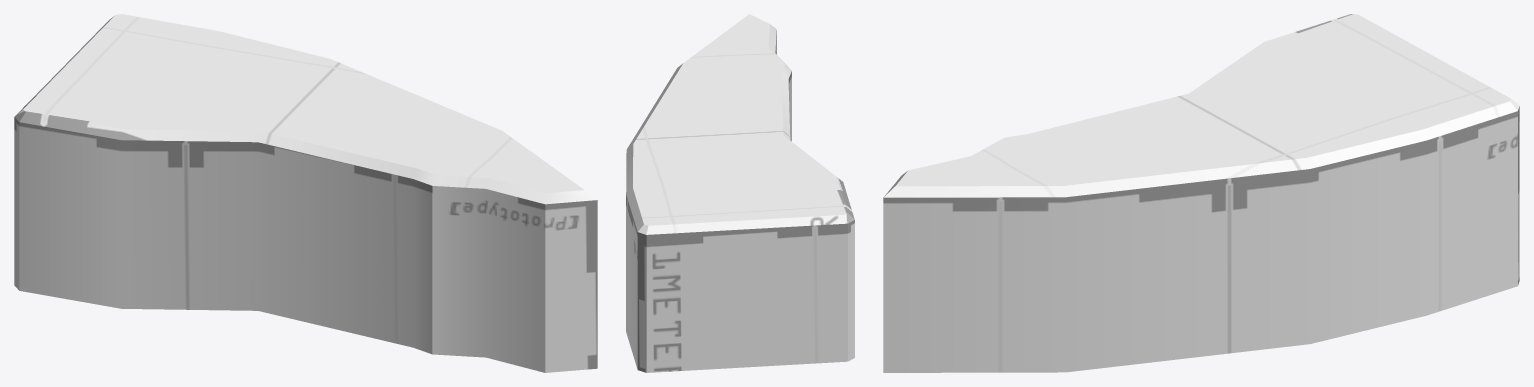
File: Platform_CaveOasis_Cube_2_.fbx
The picture shows the model from 3 angles, left to right: view 1: azimuth 30°, elevation 25°; view 2: azimuth 150°, elevation 25°; view 3: azimuth 270°, elevation 25°; orthographic projection. The views are drawn at different scales.
Parts seen in each view (by area): view 1: Platform_CaveOasis_Cube_2_; view 2: Platform_CaveOasis_Cube_2_; view 3: Platform_CaveOasis_Cube_2_.
Boxes of the visible parts, x1,y1,x2,y2 form: Platform_CaveOasis_Cube_2_: (14,14,597,372); Platform_CaveOasis_Cube_2_: (626,14,854,372); Platform_CaveOasis_Cube_2_: (883,14,1519,372).
Size of the model in its own units: 42.09 by 20.03 by 63.07.
1 material, 1 textured.
